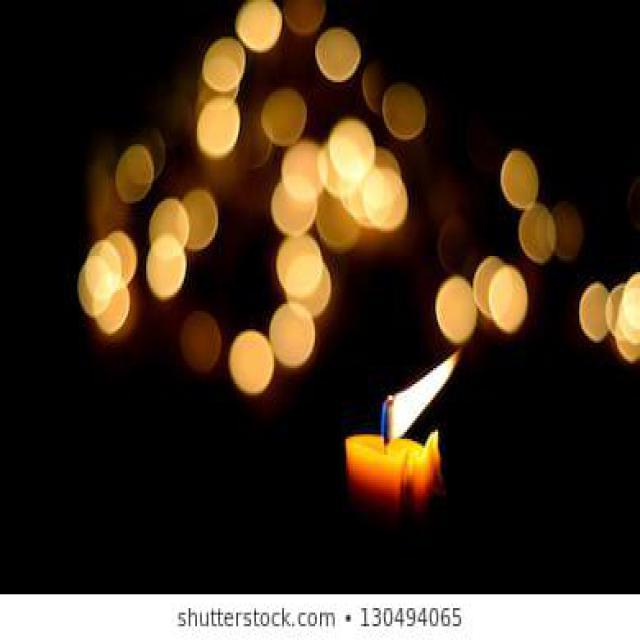Fire: (382, 350, 458, 443)
